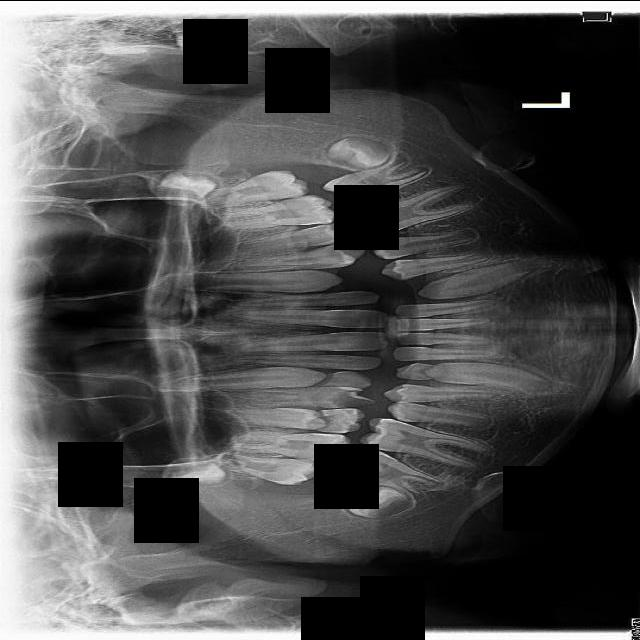Sterngold Implant: (330, 388, 371, 409), (327, 241, 351, 265), (355, 456, 376, 471), (379, 427, 399, 440), (346, 182, 362, 194), (338, 407, 355, 415), (371, 216, 385, 224), (321, 445, 331, 450)
